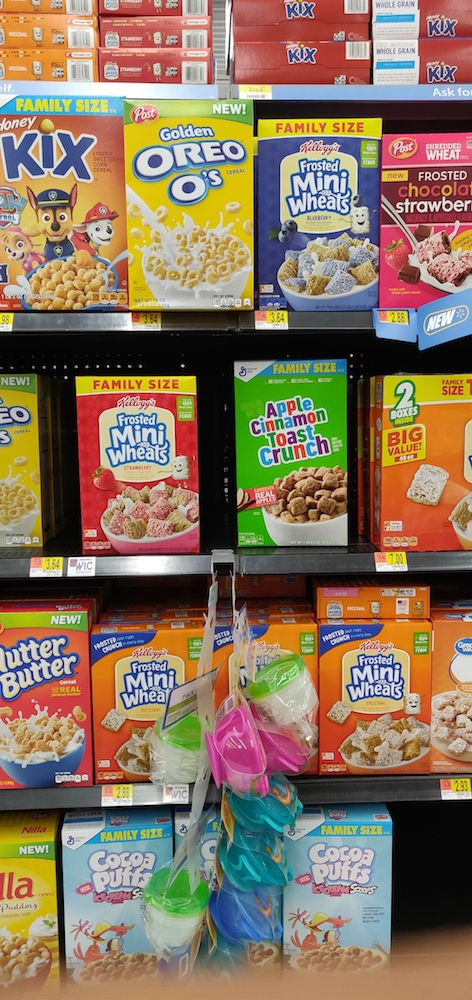Cocoa Puffs Ice Cream-563408546: (56, 828, 169, 965), (287, 818, 380, 951)
Kix Honey -009258981: (1, 102, 129, 310)
Nutter Butter-565717511: (1, 626, 88, 782)
Oreo Golden-568301011: (123, 104, 251, 310)
